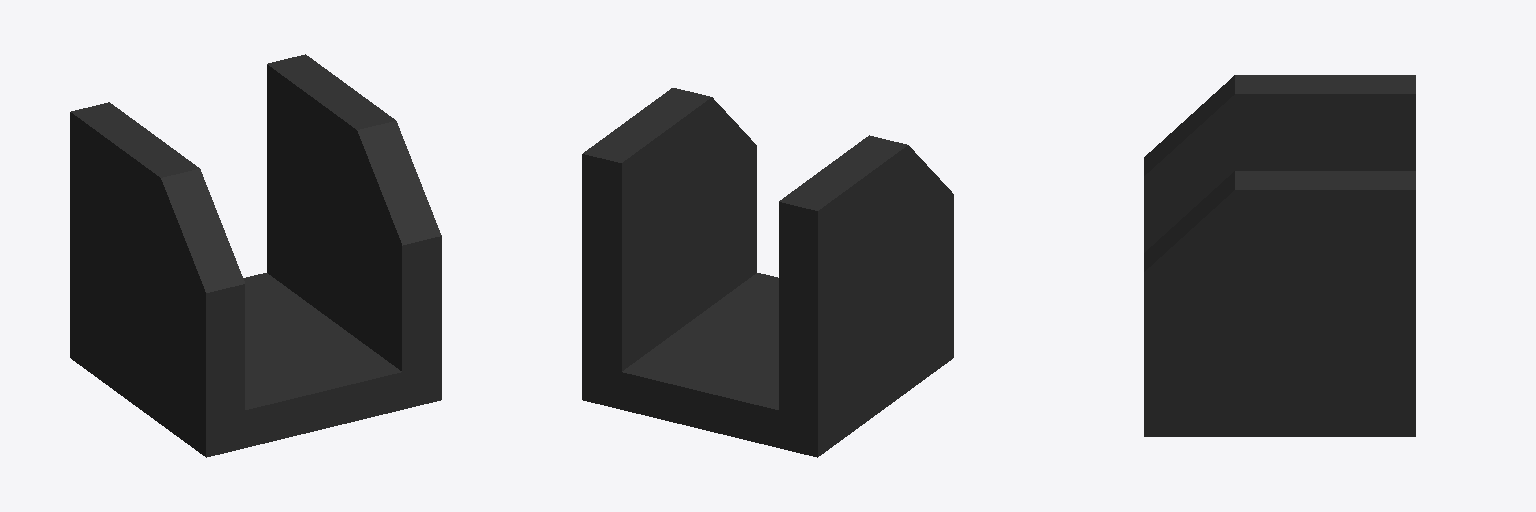
The model's file is launchClamp.base.obj.
3 renders of one model, left to right at view 1: azimuth 30°, elevation 25°; view 2: azimuth 150°, elevation 25°; view 3: azimuth 270°, elevation 25°, orthographic.
Visible parts, largest first — view 1: Base.actual_Cube.000; view 2: Base.actual_Cube.000; view 3: Base.actual_Cube.000.
Part boxes in pixels (x1,y1,x2,y2): Base.actual_Cube.000: (70, 54, 441, 457); Base.actual_Cube.000: (582, 88, 953, 457); Base.actual_Cube.000: (1144, 75, 1415, 436).
Bounding box in the file's own units: 1 × 1 × 1.